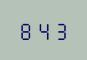eight: (18, 20, 33, 40)
four: (35, 20, 50, 40)
three: (51, 20, 66, 40)
